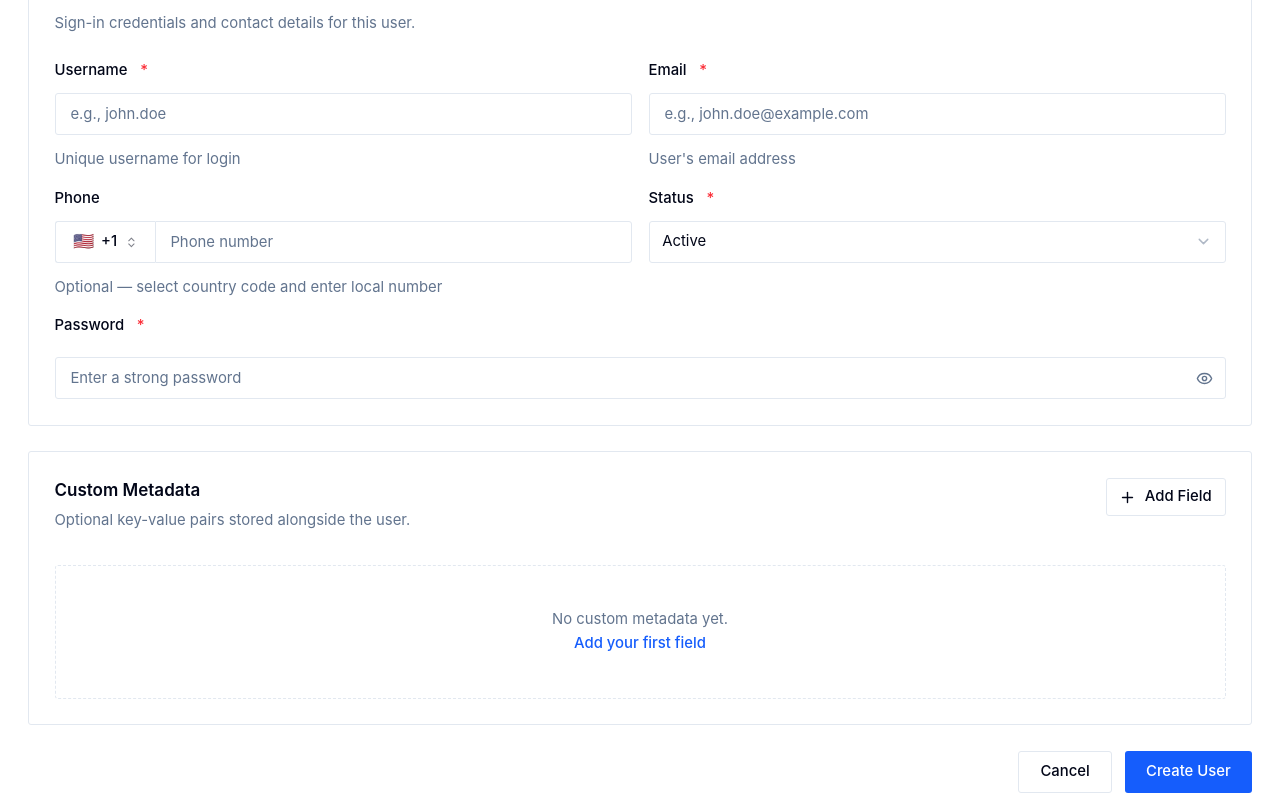
it: UserAddOrUpdateForm › shows validation errors for blank required fields on create
(page scrolled)
Click the button "Create User". click: x=1188, y=772
box: [1125,751,1252,792]
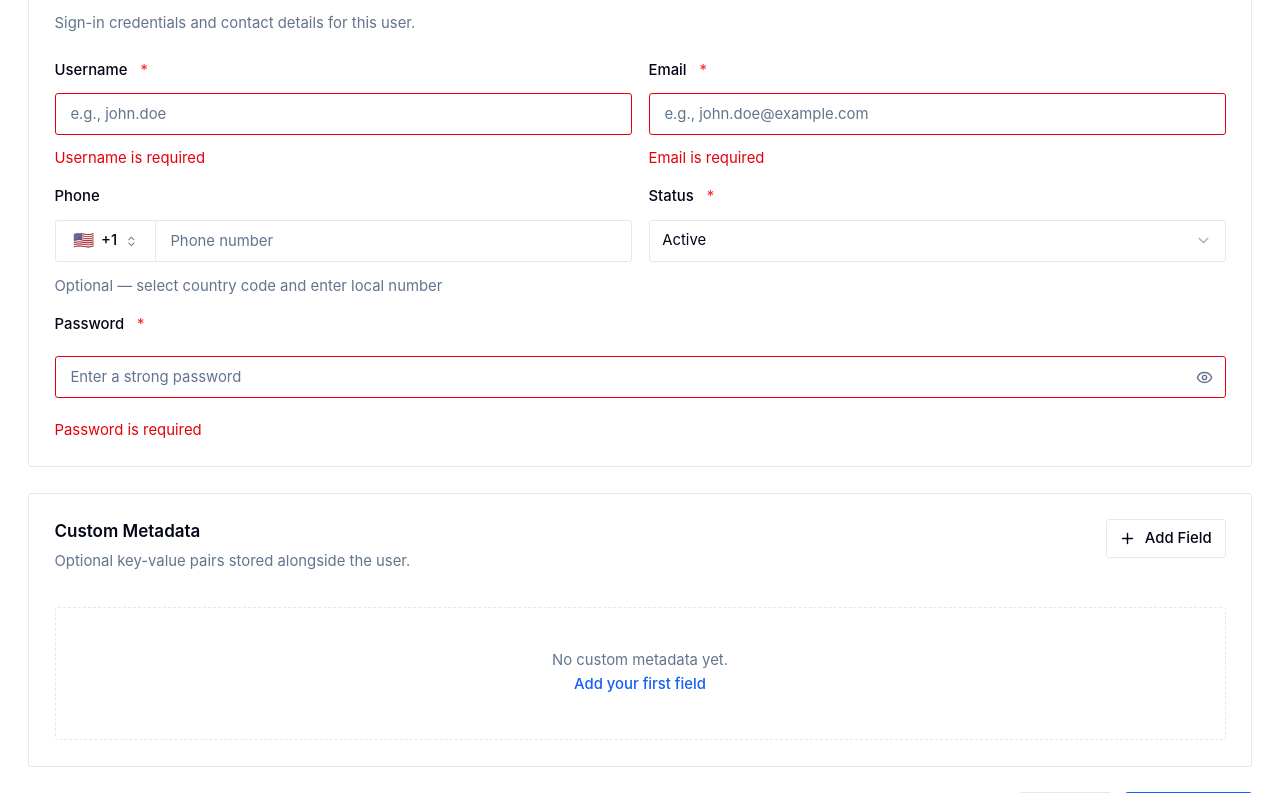
Expected: the password field labelled "Password *" is shown, [54,356,1226,398]
Expected: the text "Username is required" is shown, [54,149,205,167]
Expected: the text "Email is required" is shown, [648,149,764,167]
